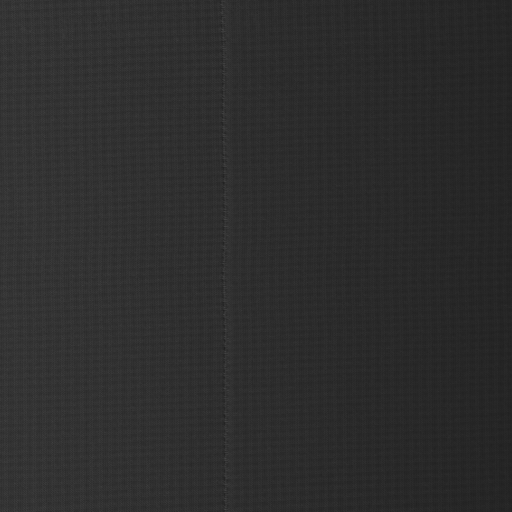defect: (216, 1, 230, 512)
